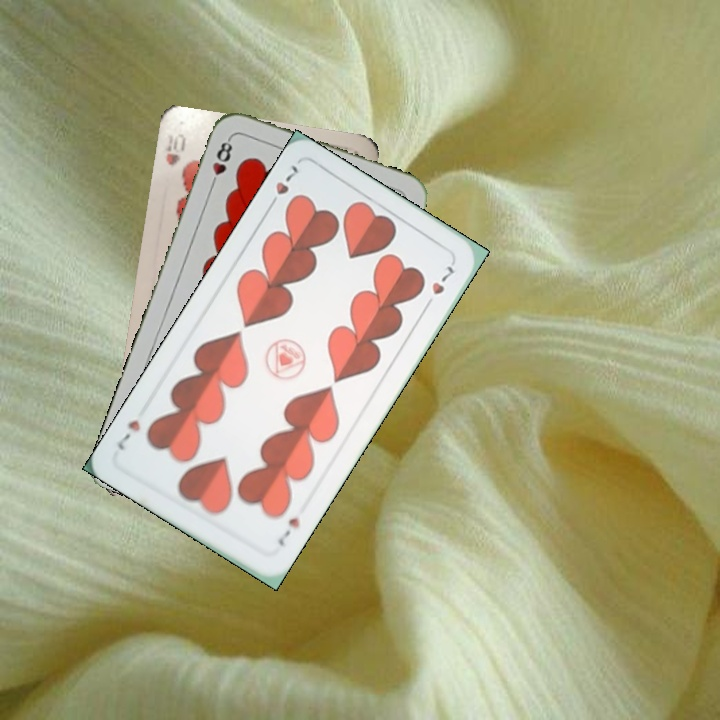H10: (161, 129, 189, 168)
H7: (264, 160, 301, 213), (273, 513, 303, 549)
H8: (206, 134, 235, 191)
